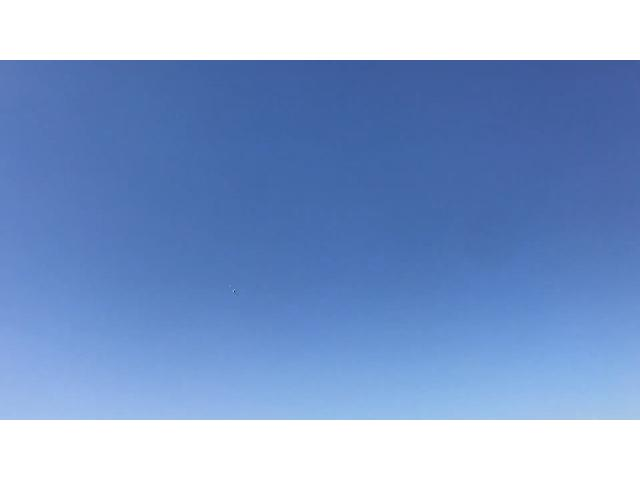Anti-Drone: (216, 275, 254, 303)
